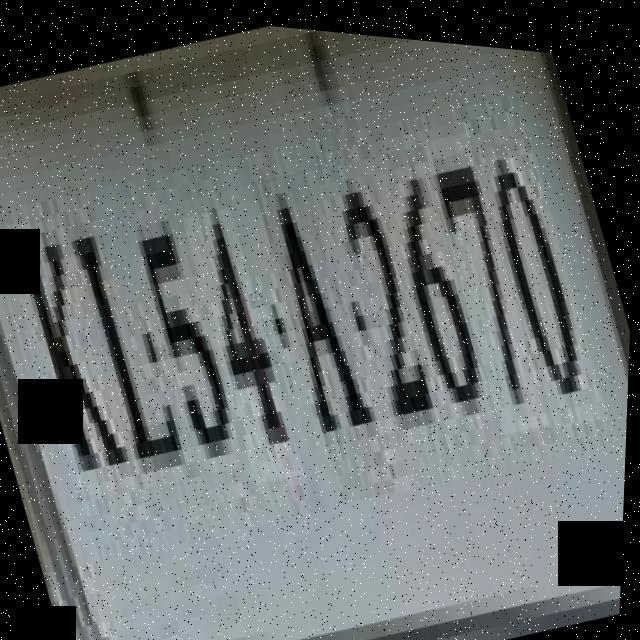0: (473, 132, 619, 422)
4: (177, 199, 316, 482)
5: (125, 201, 265, 496)
6: (370, 151, 505, 422)
7: (415, 119, 561, 428)
A: (245, 161, 408, 500)
K: (0, 211, 146, 502)
L: (60, 206, 209, 496)
